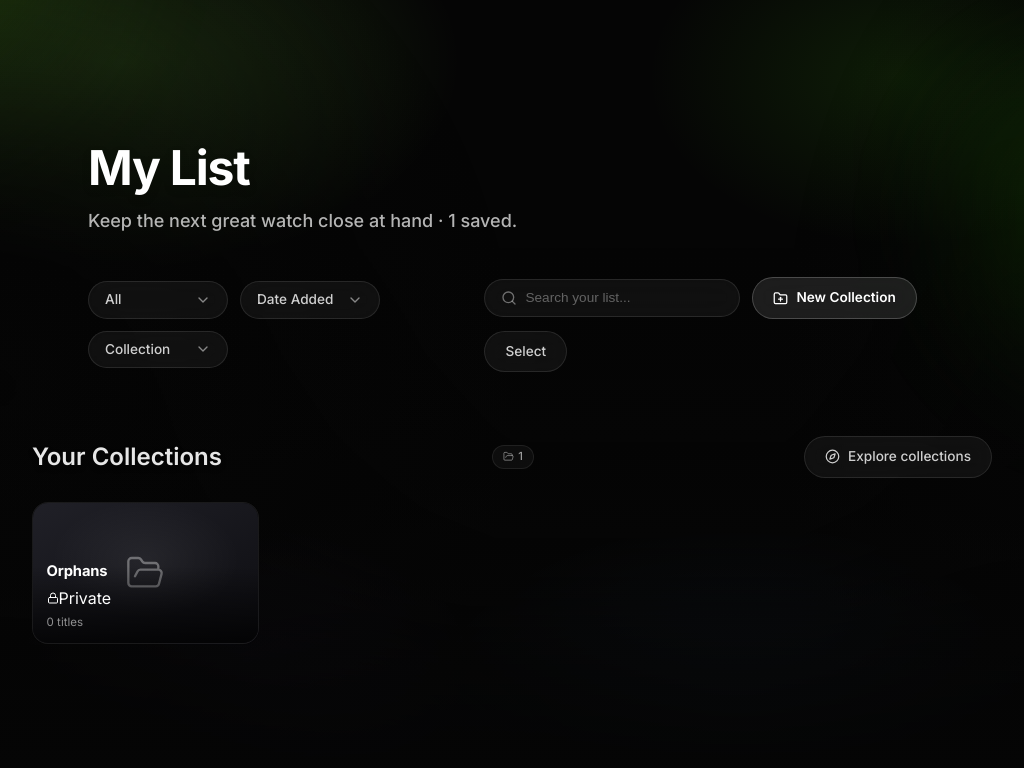
WatchlistPage collection counts ignore orphaned ids › shows the collection empty state when every id is orphaned
The width and height of the screenshot is (1024, 768).
Click the button with aria-label "open collection orphans": (145, 573) [32,502,259,644]
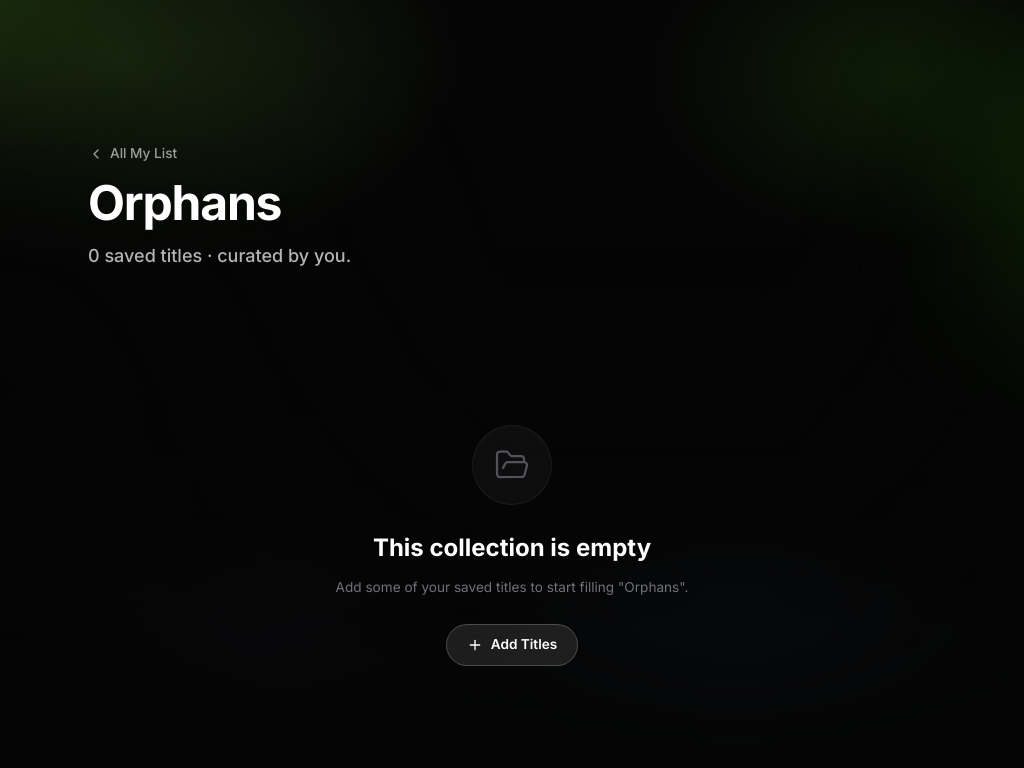
Result: the heading "This collection is empty" is shown at [373,529,651,567]
